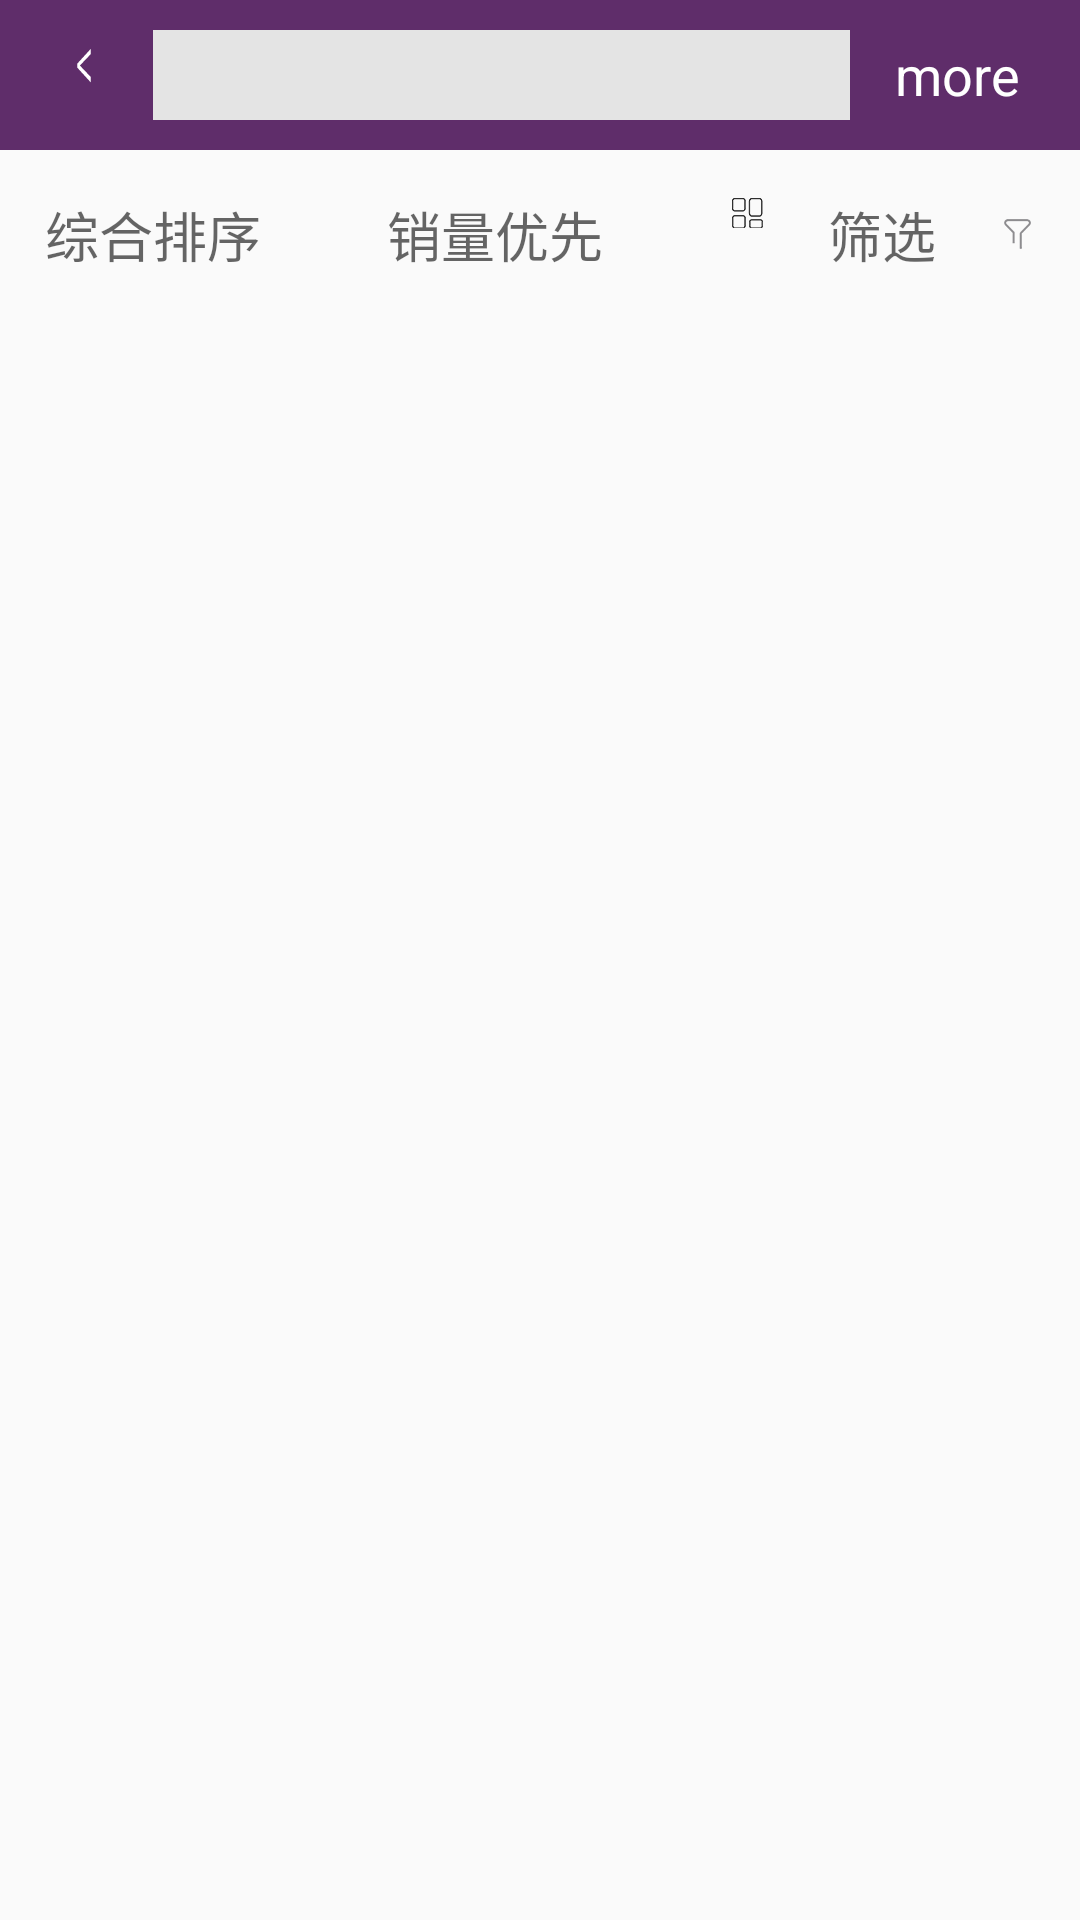

Named icons in this screenshot (1080 x 1920) and their centers, point (x, y):
sort result type: point (747, 213)
